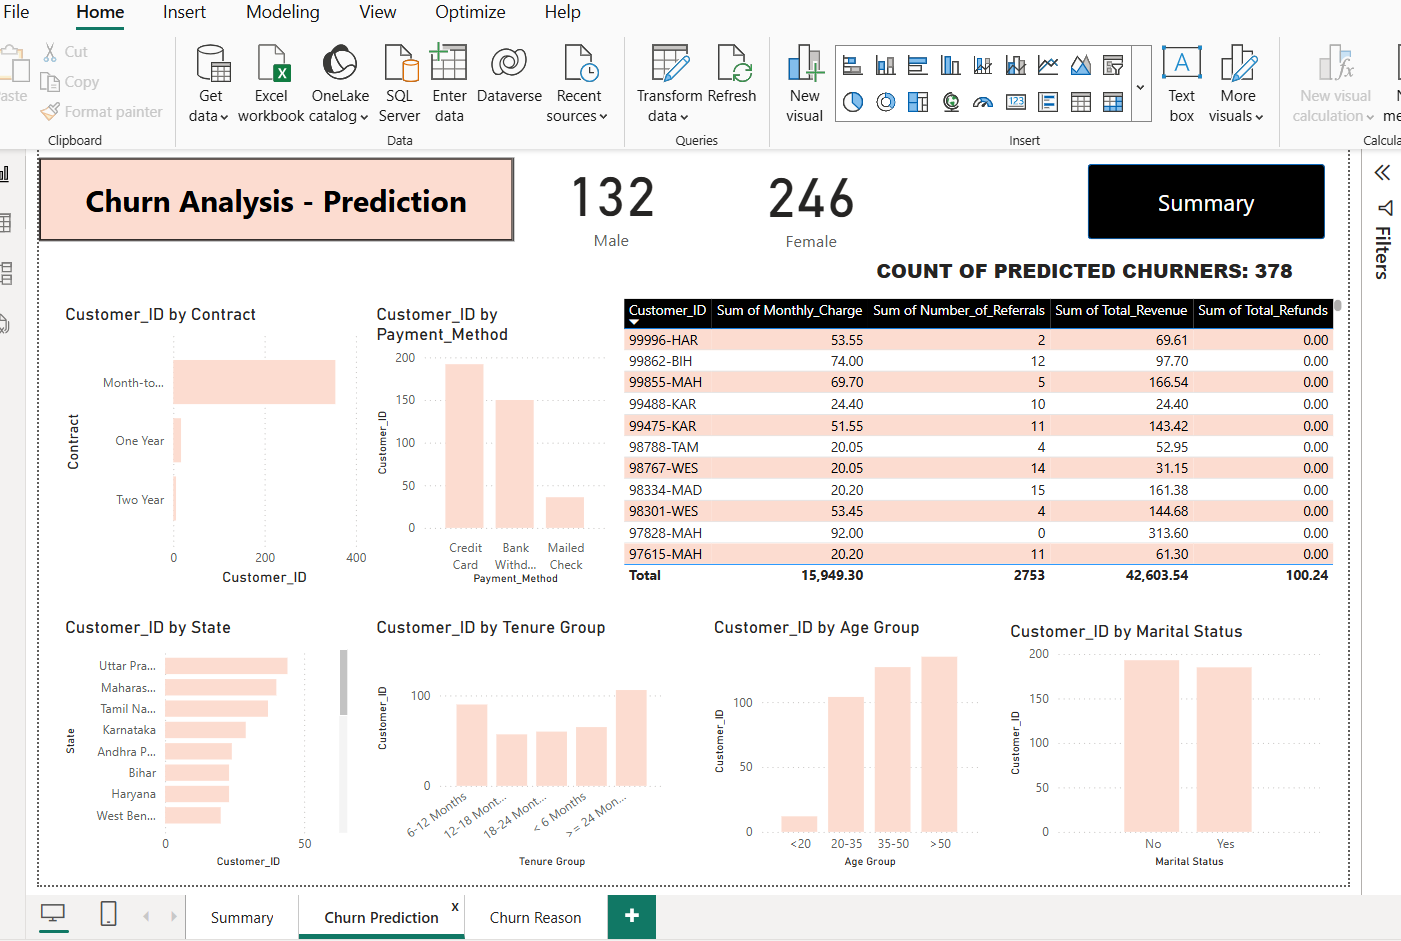

Layout of this report page (visuals, bound fields, positions):
{"tool":"powerbi","page":{"name":"Churn Prediction","canvas":[1280,720],"ordinal":1},"visuals":[{"type":"tableEx","fields":{"Values":["Predictions.Customer_ID","Sum(Predictions.Monthly_Charge)","Sum(Predictions.Number_of_Referrals)","Sum(Predictions.Total_Revenue)","Sum(Predictions.Total_Refunds)"]},"box":[566.2,141.8,714.1,289.8],"z":0},{"type":"card","fields":{"Values":["Table_Measures.Title Predicted Churners"]},"box":[787.5,100.3,470.8,41.6],"z":1000},{"type":"card","fields":{"Values":["Table_Measures.Count Predicted Churner"]},"box":[655.4,1.2,200.5,100.3],"z":2000},{"type":"card","fields":{"Values":["Table_Measures.Count Predicted Churner"]},"box":[480.6,0,159,100.3],"z":3000},{"type":"clusteredColumnChart","fields":{"Y":["CountNonNull(Predictions.Customer_ID)"],"Category":["Predictions.Married"]},"box":[945.2,461,313,247],"z":4000},{"type":"clusteredColumnChart","fields":{"Y":["CountNonNull(Predictions.Customer_ID)"],"Category":["mapping_agegrp.Age Group "]},"box":[655.4,457.3,267.8,250.7],"z":5000},{"type":"clusteredColumnChart","fields":{"Y":["CountNonNull(Predictions.Customer_ID)"],"Category":["mapping_tenuregrp.Tenure Group"]},"box":[325.3,457.3,291,250.7],"z":6000},{"type":"clusteredColumnChart","fields":{"Y":["CountNonNull(Predictions.Customer_ID)"],"Category":["Predictions.Payment_Method"]},"box":[325.3,151.6,234.8,280],"z":7000},{"type":"clusteredBarChart","fields":{"Category":["Predictions.Contract"],"Y":["CountNonNull(Predictions.Customer_ID)"]},"box":[20.8,151.6,304.5,280],"z":8000},{"type":"clusteredBarChart","fields":{"Category":["Predictions.State"],"Y":["CountNonNull(Predictions.Customer_ID)"]},"box":[20.8,457.3,286.1,250.7],"z":9000},{"type":"shape","box":[1025.4,14.2,231.8,74],"z":10000},{"type":"shape","box":[0,8.6,464.7,81.9],"z":11000}]}

Visuals, with their boxes on the page's 1280x720 design canvas (x1, y1, x2, y2). These are canvas units, not pixel positions in the 1401x941 screenshot, which may show the page scaled, cropped or inside an application window:
tableEx - Predictions.Customer_ID x Sum(Predictions.Monthly_Charge): [566,142,1280,432]
card - Table_Measures.Title Predicted Churners: [788,100,1258,142]
card - Table_Measures.Count Predicted Churner: [655,1,856,102]
card - Table_Measures.Count Predicted Churner: [481,0,640,100]
clusteredColumnChart - CountNonNull(Predictions.Customer_ID) x Predictions.Married: [945,461,1258,708]
clusteredColumnChart - CountNonNull(Predictions.Customer_ID) x mapping_agegrp.Age Group : [655,457,923,708]
clusteredColumnChart - CountNonNull(Predictions.Customer_ID) x mapping_tenuregrp.Tenure Group: [325,457,616,708]
clusteredColumnChart - CountNonNull(Predictions.Customer_ID) x Predictions.Payment_Method: [325,152,560,432]
clusteredBarChart - Predictions.Contract x CountNonNull(Predictions.Customer_ID): [21,152,325,432]
clusteredBarChart - Predictions.State x CountNonNull(Predictions.Customer_ID): [21,457,307,708]
shape: [1025,14,1257,88]
shape: [0,9,465,90]
